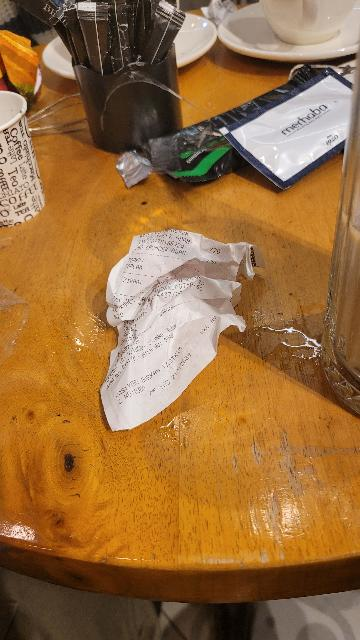Kagit: (94, 214, 272, 443), (0, 86, 66, 221)
Metal: (69, 45, 190, 157)
Plastik: (159, 60, 358, 187)
